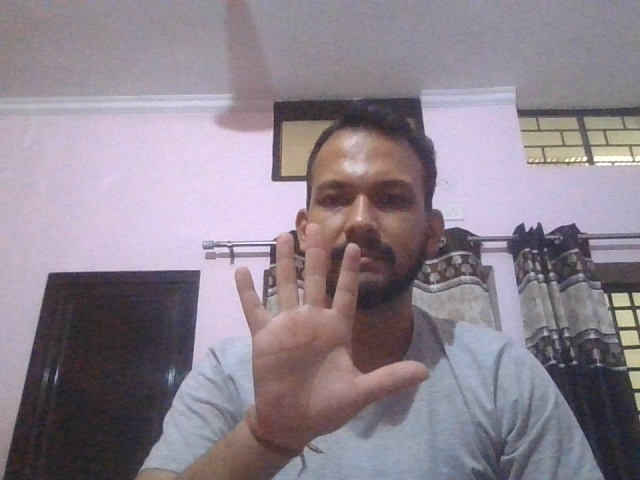hello: (234, 223, 430, 443)
